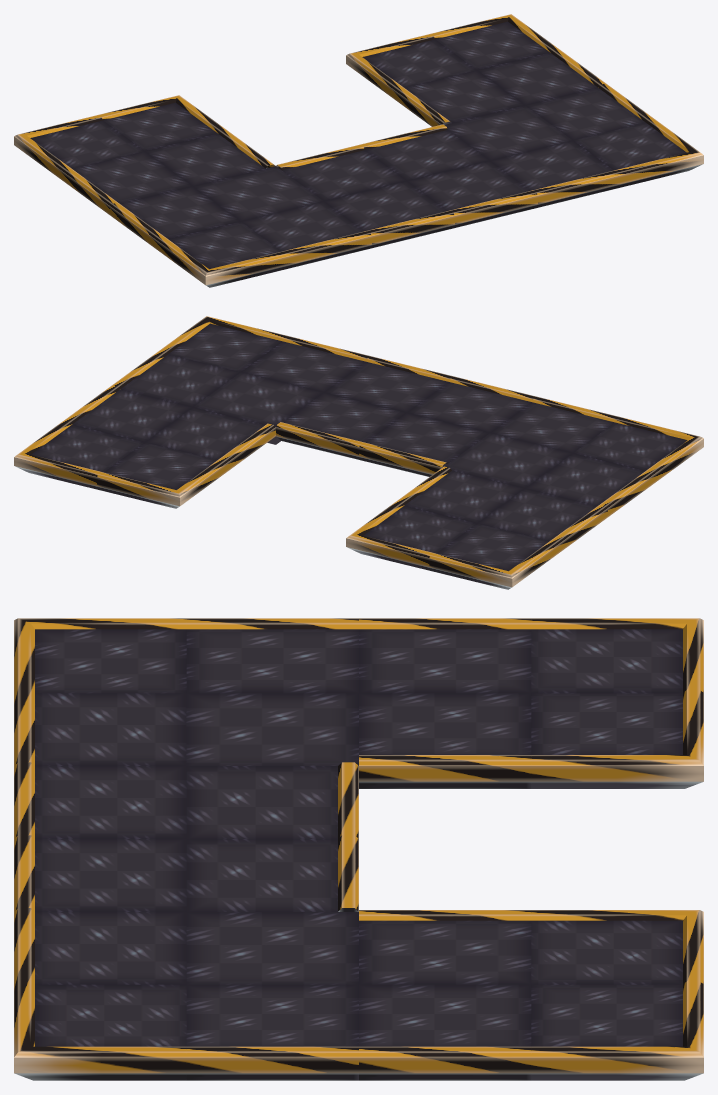
File: UPlataform.fbx
3 views of the same model, one above another, from view 1: azimuth 30°, elevation 25°; view 2: azimuth 150°, elevation 25°; view 3: azimuth 270°, elevation 25° (orthographic). The views are drawn at different scales.
Parts seen in each view (by area): view 1: UPlataform; view 2: UPlataform; view 3: UPlataform.
Boxes of the visible parts, x1,y1,x2,y2 form: UPlataform: [14, 14, 703, 287]; UPlataform: [14, 316, 703, 589]; UPlataform: [14, 618, 703, 1080].
Size of the model in its own units: 600 by 33.23 by 400.
